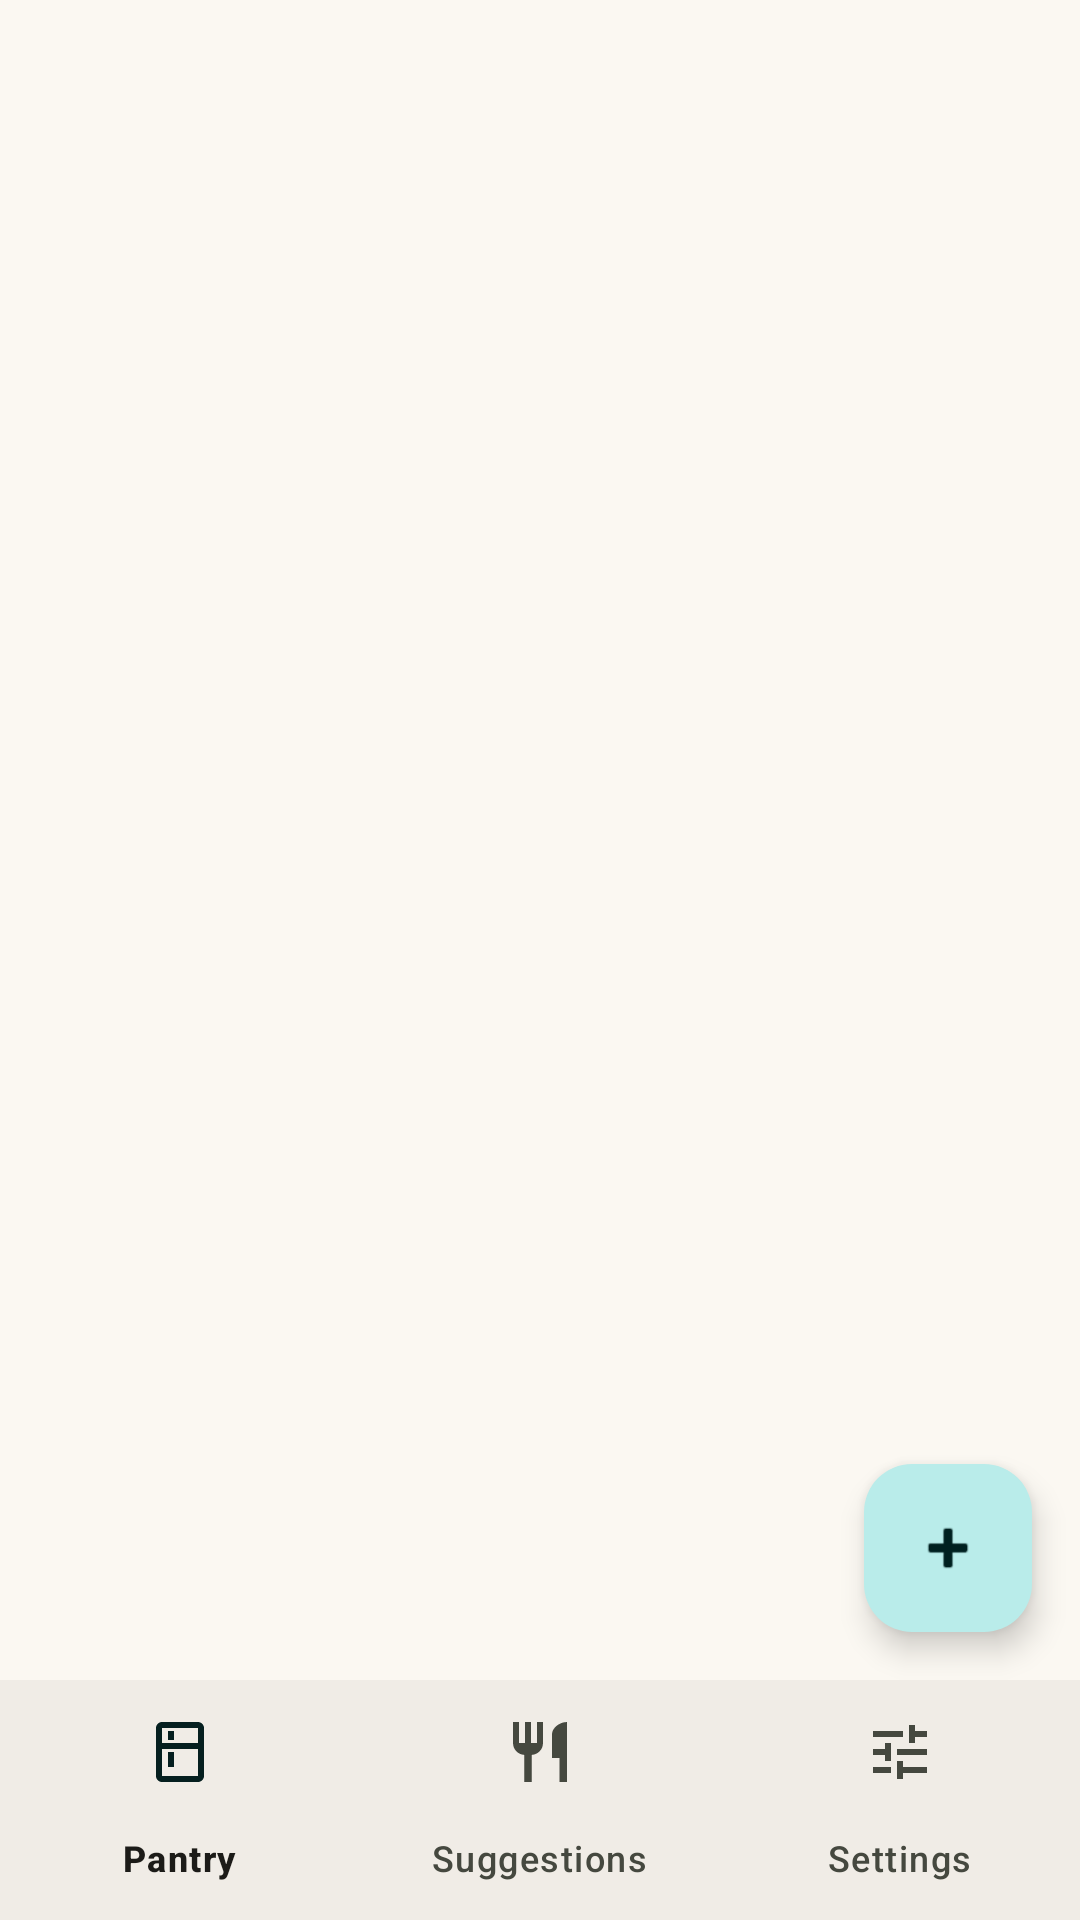

Icons on this 1080 x 1920 Android screen, each with the point to tap as (x,y):
Add ingredient: (948,1548)
